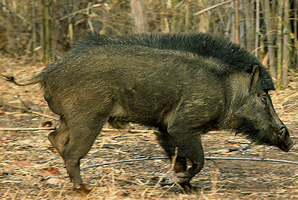wild boar: (3, 25, 298, 194)
